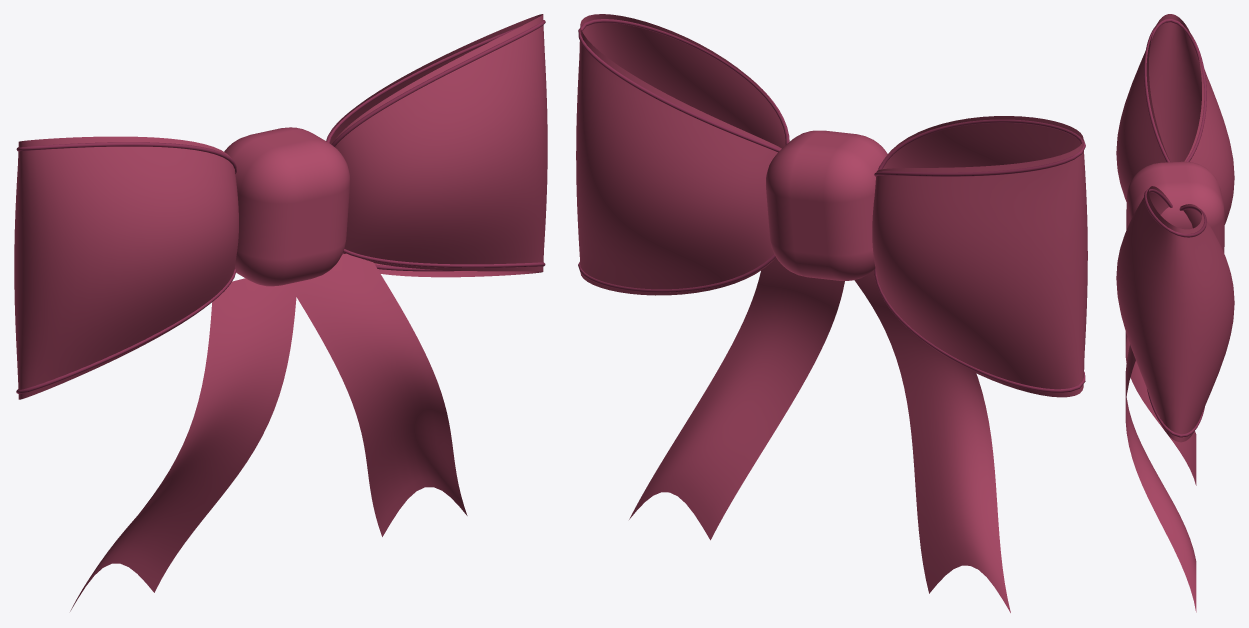
Rendered from atelier_ribbon.glb.
3 views of the same model, side by side, from view 1: azimuth 30°, elevation 25°; view 2: azimuth 150°, elevation 25°; view 3: azimuth 270°, elevation 25° (orthographic). The views are drawn at different scales.
Visible parts, largest first — view 1: ribbon:RibbonV5_WovenSatin, ribbon:RibbonV5_Selvedge; view 2: ribbon:RibbonV5_WovenSatin, ribbon:RibbonV5_Selvedge; view 3: ribbon:RibbonV5_WovenSatin, ribbon:RibbonV5_Selvedge.
Boxes of the visible parts, box(x1,y1,x2,y2) form: ribbon:RibbonV5_WovenSatin: box(14, 14, 547, 611); ribbon:RibbonV5_Selvedge: box(16, 20, 545, 393); ribbon:RibbonV5_WovenSatin: box(576, 14, 1087, 612); ribbon:RibbonV5_Selvedge: box(578, 19, 1085, 392); ribbon:RibbonV5_WovenSatin: box(1116, 14, 1234, 612); ribbon:RibbonV5_Selvedge: box(1144, 19, 1206, 437).
Bounding box in the file's own units: 0.1106 × 0.1009 × 0.026.
